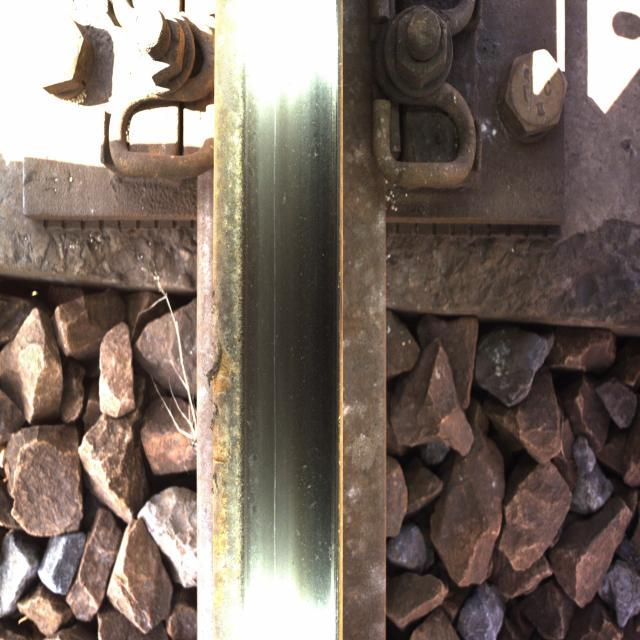normal: (234, 67, 330, 582)
